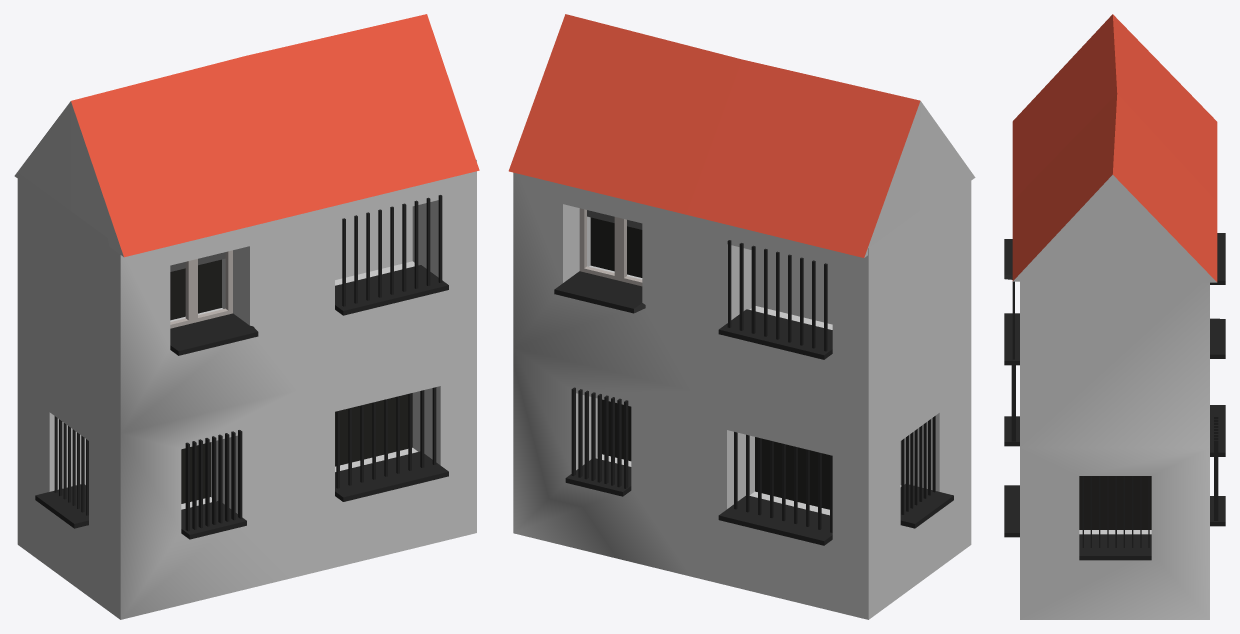
Rendered from casa procedural_relleno_2.fbx.
3 views of the same model, side by side, from view 1: azimuth 30°, elevation 25°; view 2: azimuth 150°, elevation 25°; view 3: azimuth 270°, elevation 25° (orthographic). The views are drawn at different scales.
Parts seen in each view (by area): view 1: Procedural_Building_straight.004; view 2: Procedural_Building_straight.004; view 3: Procedural_Building_straight.004.
Boxes of the visible parts, x1,y1,x2,y2 form: Procedural_Building_straight.004: (14,14,479,619); Procedural_Building_straight.004: (508,14,975,619); Procedural_Building_straight.004: (1004,14,1225,619).
Size of the model in its own units: 216 by 259 by 116.
